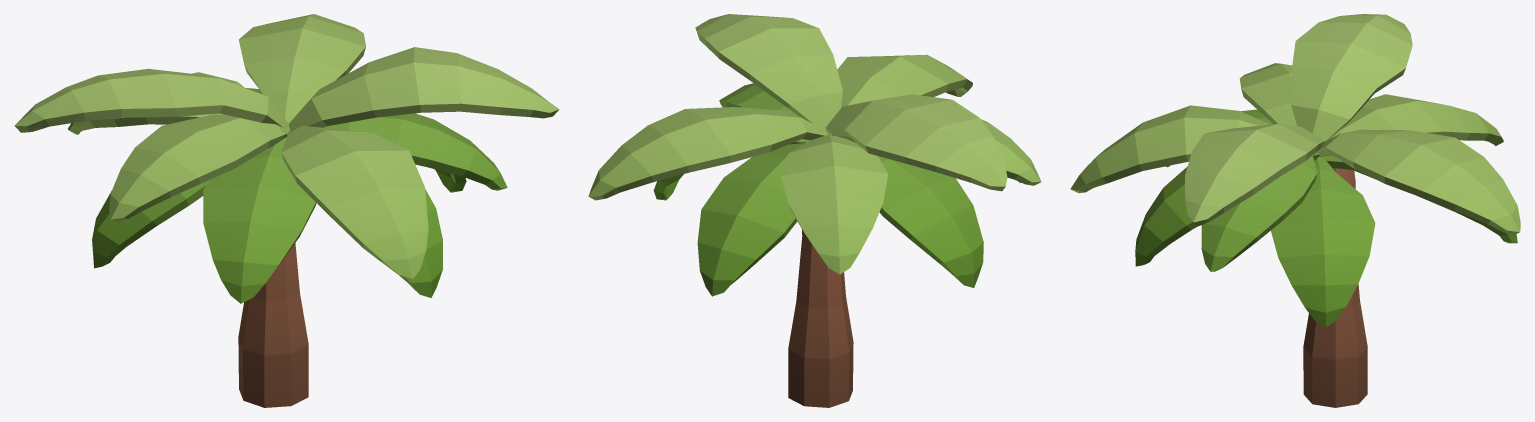
Rendered from palm-tree-small.glb.
3 renders of one model, left to right at view 1: azimuth 30°, elevation 25°; view 2: azimuth 150°, elevation 25°; view 3: azimuth 270°, elevation 25°, orthographic. The views are drawn at different scales.
Visible parts, largest first — view 1: palm tree small; view 2: palm tree small; view 3: palm tree small.
Boxes of the visible parts, x1,y1,x2,y2 form: palm tree small: (14, 14, 559, 407); palm tree small: (588, 14, 1041, 407); palm tree small: (1070, 14, 1520, 407).
Bounding box in the file's own units: 4.41 × 3.27 × 4.33.
Materials: 1 (1 with a texture image).
